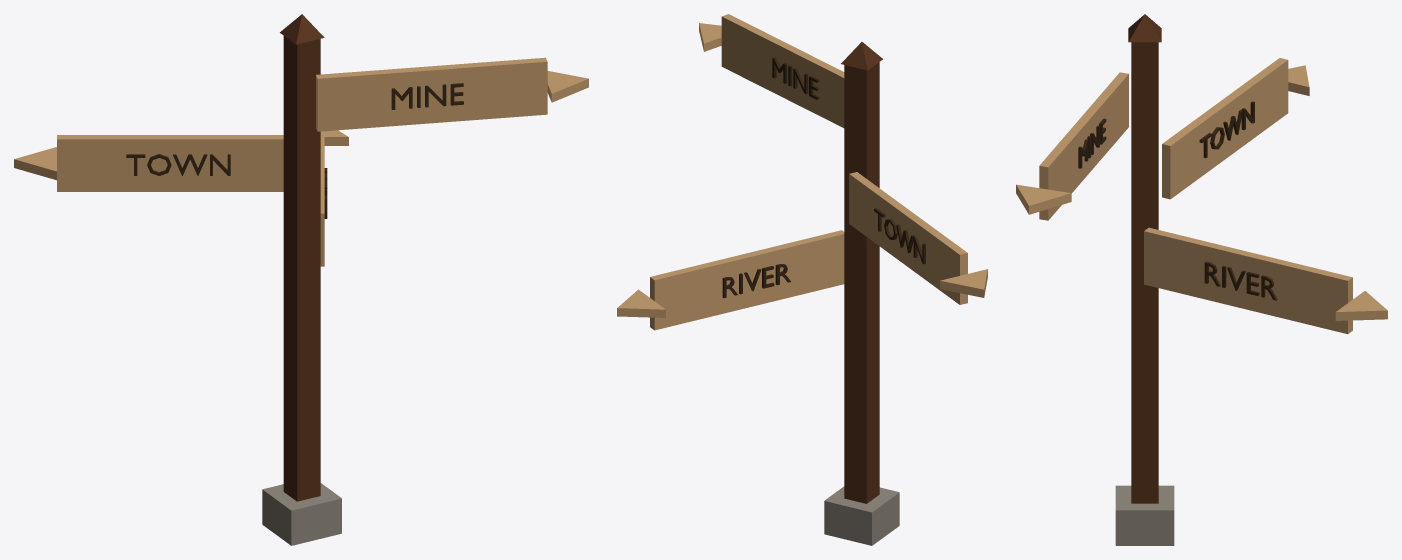
File: Prop_Signpost.fbx
The picture shows the model from 3 angles, left to right: view 1: azimuth 30°, elevation 25°; view 2: azimuth 150°, elevation 25°; view 3: azimuth 270°, elevation 25°; orthographic projection. The views are drawn at different scales.
Parts seen in each view (by area): view 1: Prop_Signpost; view 2: Prop_Signpost; view 3: Prop_Signpost.
Part boxes in pixels (x1,y1,x2,y2): Prop_Signpost: [14, 14, 588, 545]; Prop_Signpost: [617, 14, 987, 545]; Prop_Signpost: [1016, 14, 1387, 545].
Bounding box in the file's own units: 2.6 × 2.92 × 1.89.
